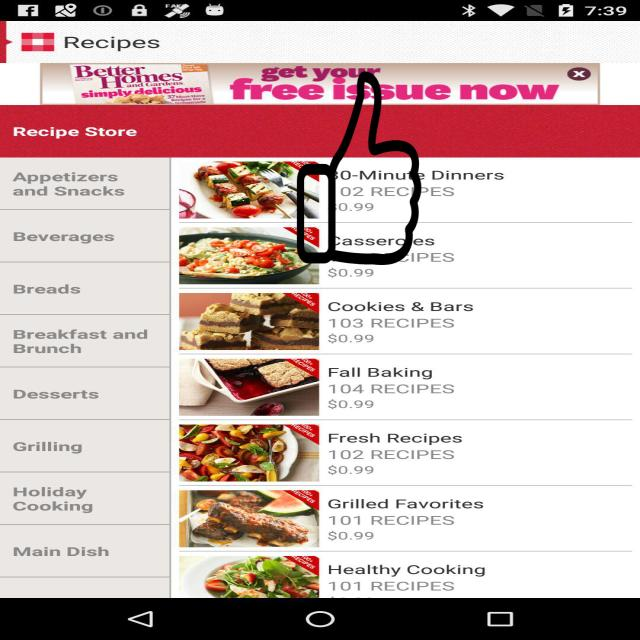privacy zuckering: (295, 71, 423, 265)
